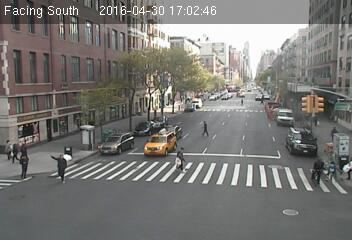neg: (184, 84, 205, 112), (282, 198, 302, 224), (80, 121, 98, 146), (95, 80, 113, 103), (150, 191, 164, 210), (117, 109, 129, 124), (236, 92, 247, 107), (164, 99, 175, 114)
pos: (46, 149, 73, 186), (307, 156, 330, 187), (169, 142, 192, 172), (13, 150, 36, 180), (196, 117, 213, 139), (8, 141, 23, 161), (17, 142, 32, 161), (328, 125, 342, 144), (257, 94, 267, 107)
